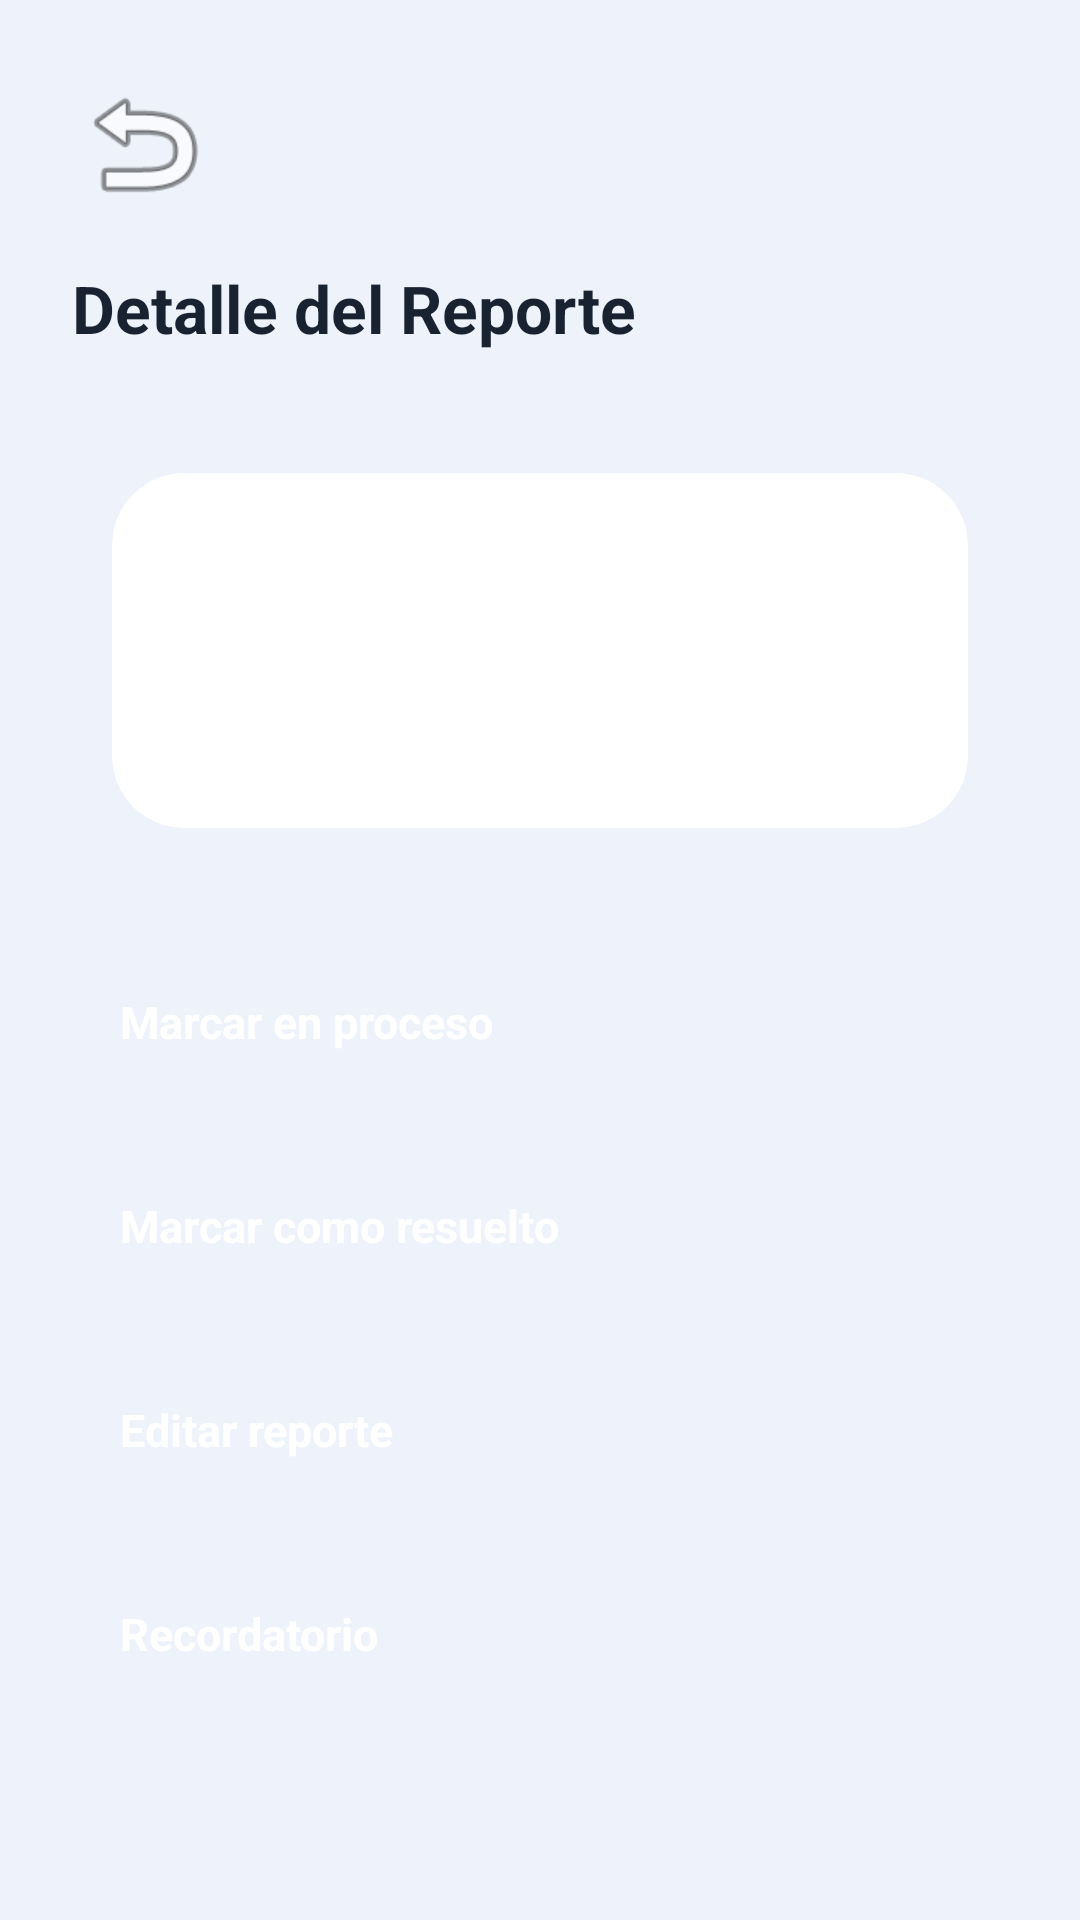

Named icons in this screenshot (1080 × 1920) and their centers, (x,y):
Volver: (146,145)
